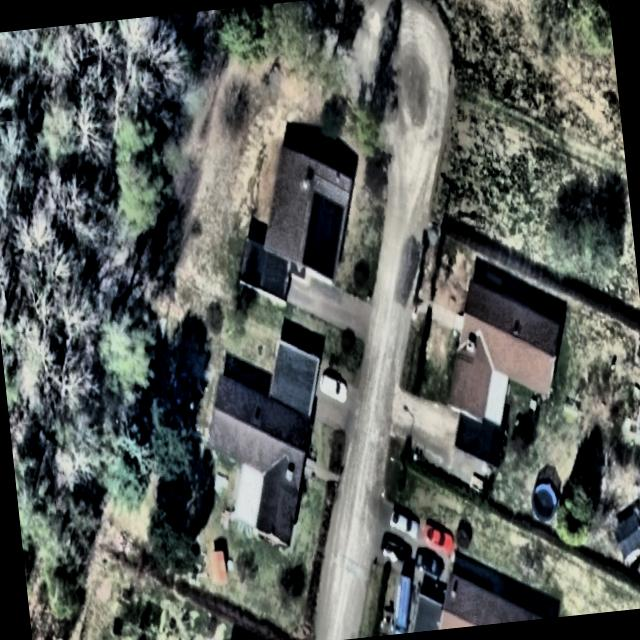roof_pv: (292, 184, 354, 283)
